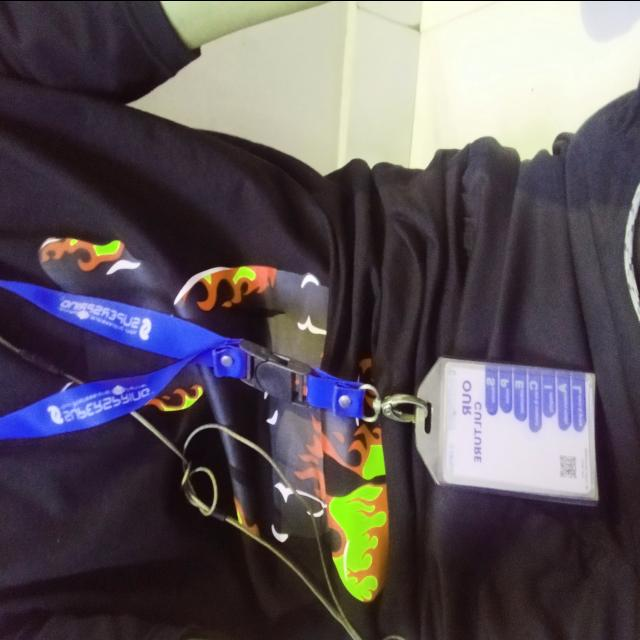ID_card: (413, 355, 600, 505)
